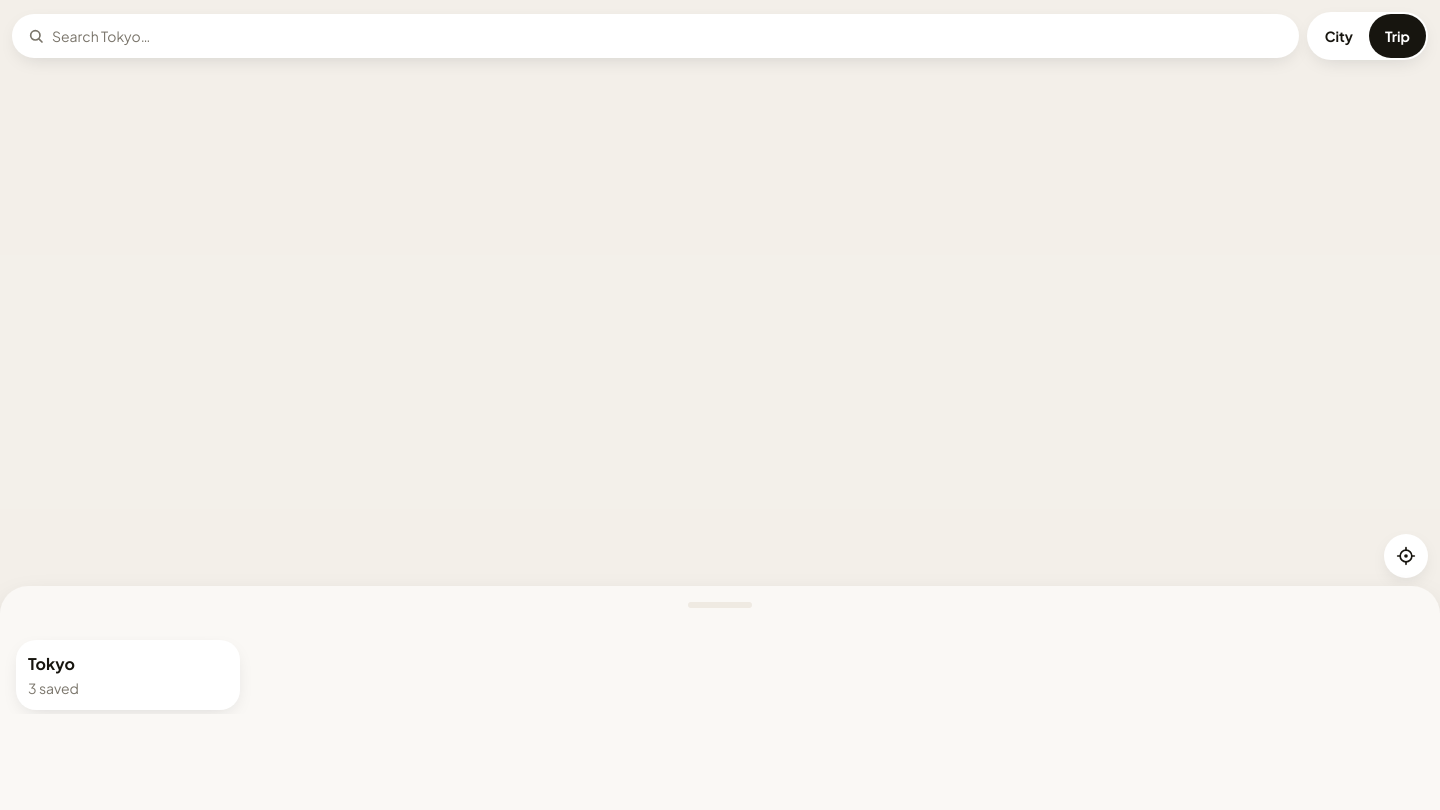
Test: for a member who cannot edit › states the same count and offers no action that would be refused (FR-021)
This screenshot has width=1440, height=810.
Click the button "City": (1339, 36) x1=1309 y1=14 x2=1369 y2=58
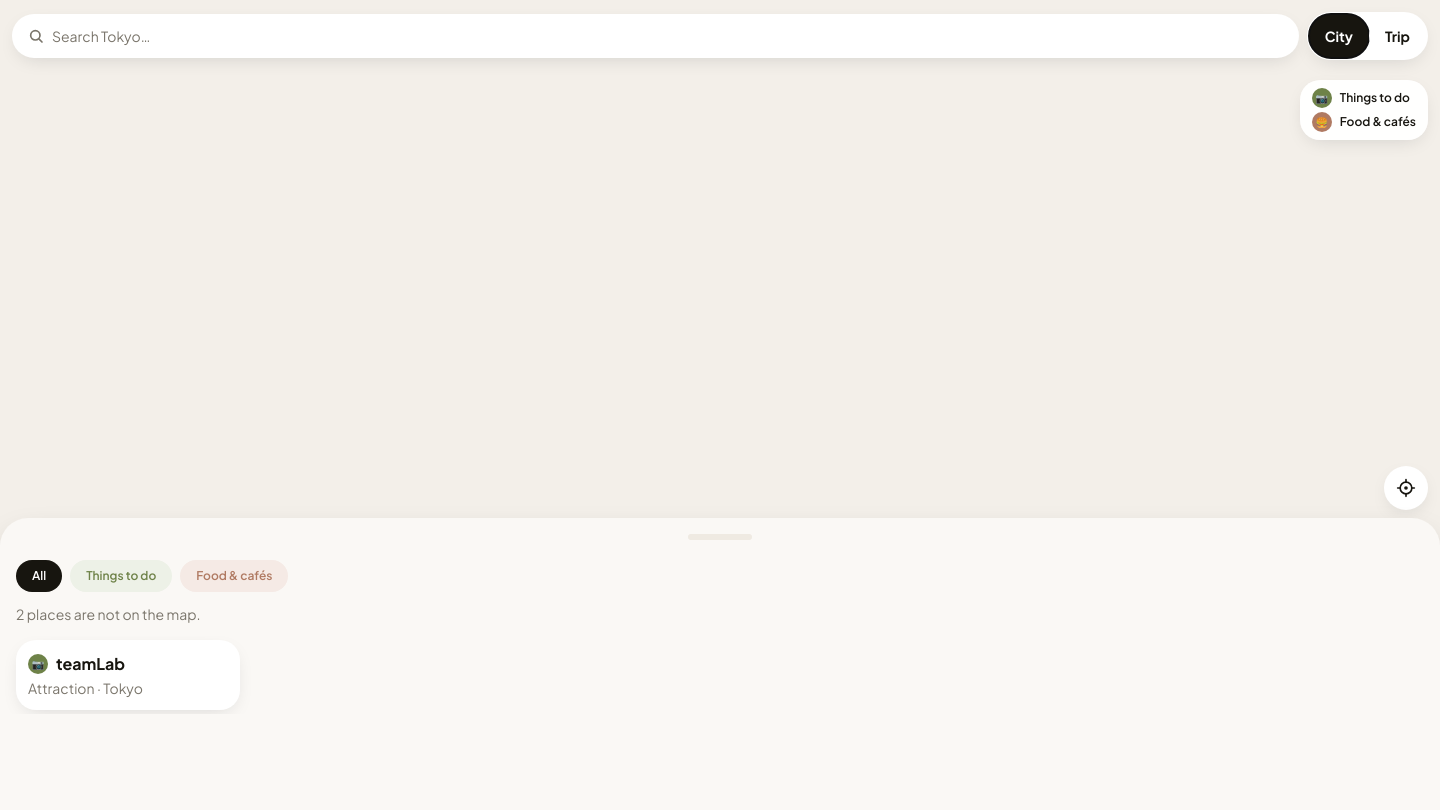
Expected: the text "2 places are not on the map." is shown, x1=16 y1=605 x2=200 y2=623
